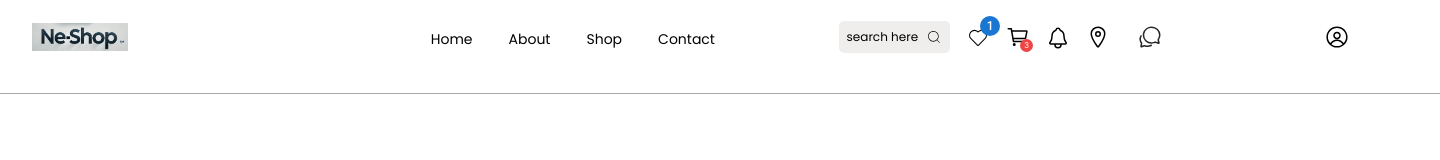
Test: Navbar Component Additional Tests › closes profile modal when close button is clicked
Click the button with test id "profile-button" at (1325, 37), box [1325,25,1326,49]
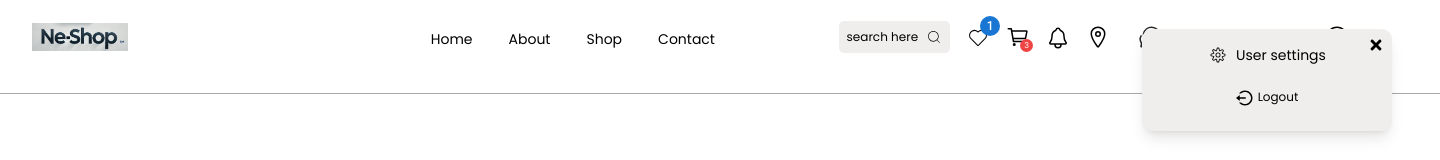
Check: the text "User settings" is shown, box [1236,45,1326,65]
Click the button with test id "close-button" at (1376, 45), box [1368,37,1384,53]
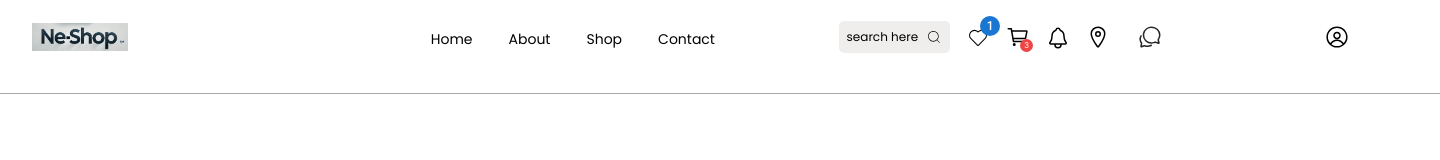
Check: the link "User settings" is gone
